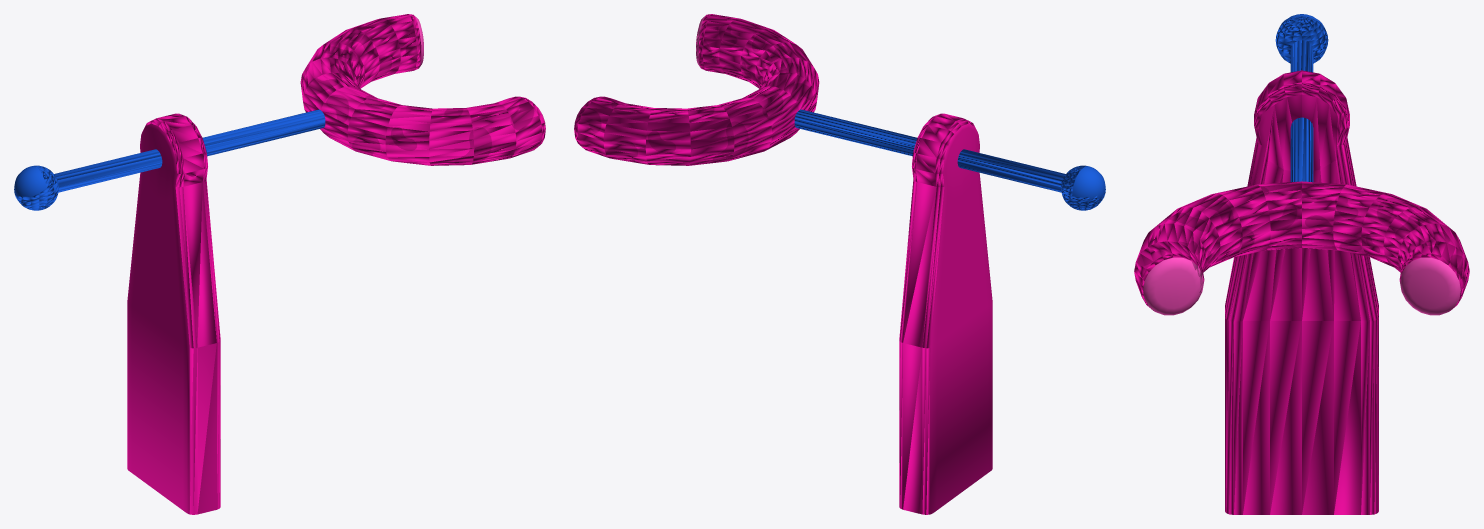
File: Donut.fbx
3 renders of one model, left to right at view 1: azimuth 30°, elevation 25°; view 2: azimuth 150°, elevation 25°; view 3: azimuth 270°, elevation 25°, orthographic. The views are drawn at different scales.
Visible parts, largest first — view 1: Half_Donut_Side, Half_Donut_01, Half_Donut_Stick, Half_Donut_Sphere; view 2: Half_Donut_Side, Half_Donut_01, Half_Donut_Stick, Half_Donut_Sphere; view 3: Half_Donut_Side, Half_Donut_01, Half_Donut_Stick, Half_Donut_Sphere.
Boxes of the visible parts, <box> form: Half_Donut_Side: <box>127,113,220,514</box>; Half_Donut_01: <box>300,14,545,165</box>; Half_Donut_Stick: <box>54,109,325,192</box>; Half_Donut_Sphere: <box>14,165,58,210</box>; Half_Donut_Side: <box>899,113,992,514</box>; Half_Donut_01: <box>574,14,819,165</box>; Half_Donut_Stick: <box>794,109,1065,192</box>; Half_Donut_Sphere: <box>1061,165,1105,210</box>; Half_Donut_Side: <box>1225,70,1378,514</box>; Half_Donut_01: <box>1134,181,1469,315</box>; Half_Donut_Stick: <box>1290,40,1313,181</box>; Half_Donut_Sphere: <box>1275,14,1328,63</box>.
Size of the model in its own units: 55.53 by 42.3 by 30.
